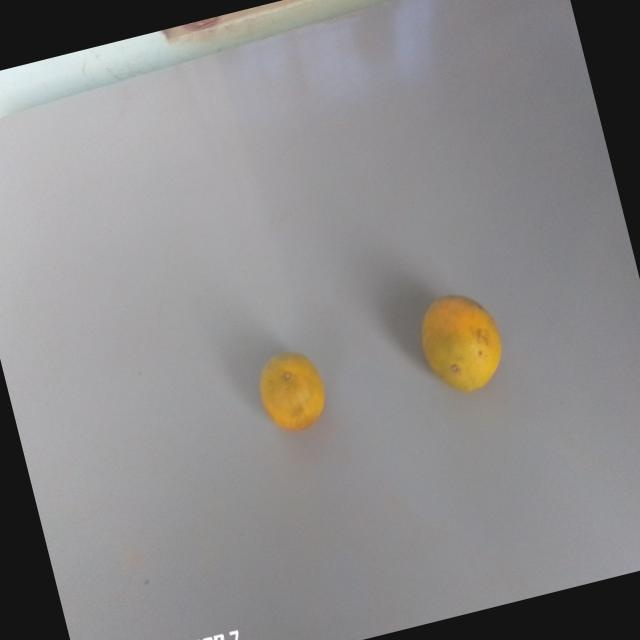agrume: (393, 269, 523, 423), (233, 323, 341, 446)
